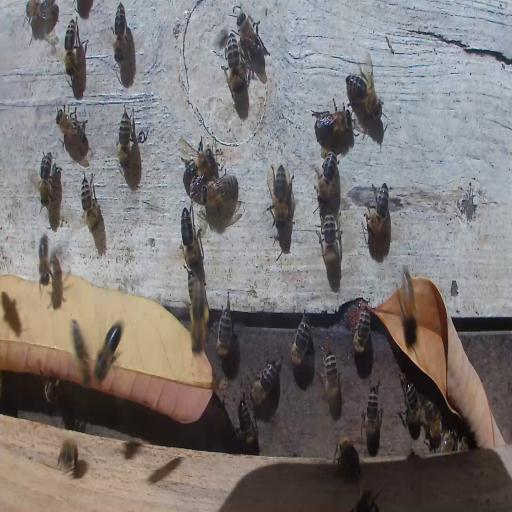bee: (92, 316, 125, 380), (346, 59, 382, 116), (188, 274, 210, 360), (248, 358, 284, 405), (70, 316, 94, 386), (268, 162, 292, 231), (234, 8, 262, 67), (55, 103, 87, 154), (313, 98, 349, 140), (366, 180, 392, 238), (181, 140, 213, 185), (399, 378, 421, 439), (80, 172, 102, 231), (318, 211, 341, 267), (316, 150, 339, 205), (322, 346, 342, 405), (334, 436, 362, 478), (350, 303, 372, 356), (290, 314, 311, 368), (205, 176, 238, 210), (216, 299, 234, 360), (364, 382, 382, 442), (182, 206, 198, 270), (224, 36, 241, 96), (118, 105, 132, 174), (423, 398, 442, 448), (237, 395, 257, 442), (37, 231, 51, 294), (24, 2, 60, 26), (400, 270, 415, 324), (65, 18, 78, 80), (113, 2, 126, 62), (39, 150, 52, 208), (437, 429, 469, 452), (57, 439, 79, 471), (354, 486, 376, 512), (44, 376, 59, 406)
